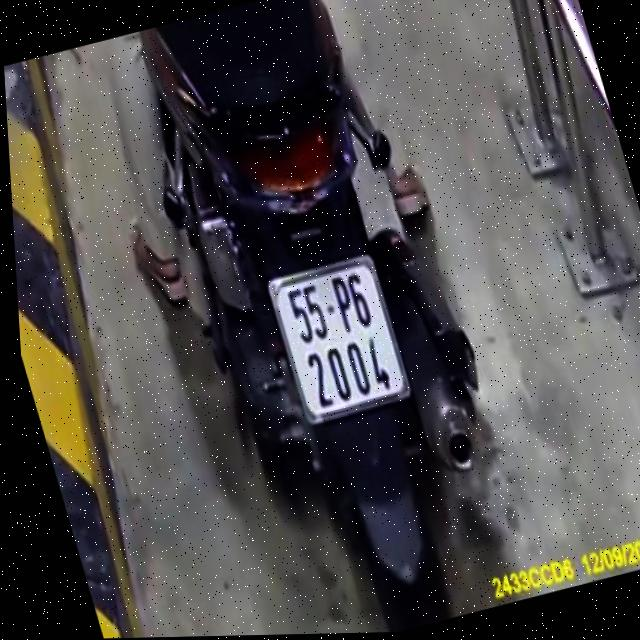motorcycle: (123, 0, 544, 637)
plate: (259, 251, 416, 426)
